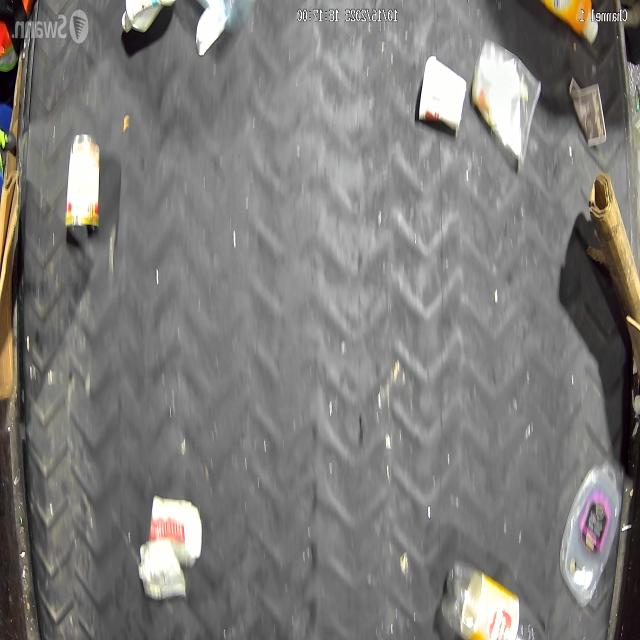can: (64, 132, 104, 242)
plastic_bottle: (441, 555, 548, 640)
